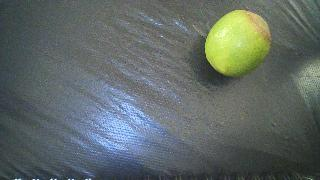DESECHO: (205, 10, 271, 77)
